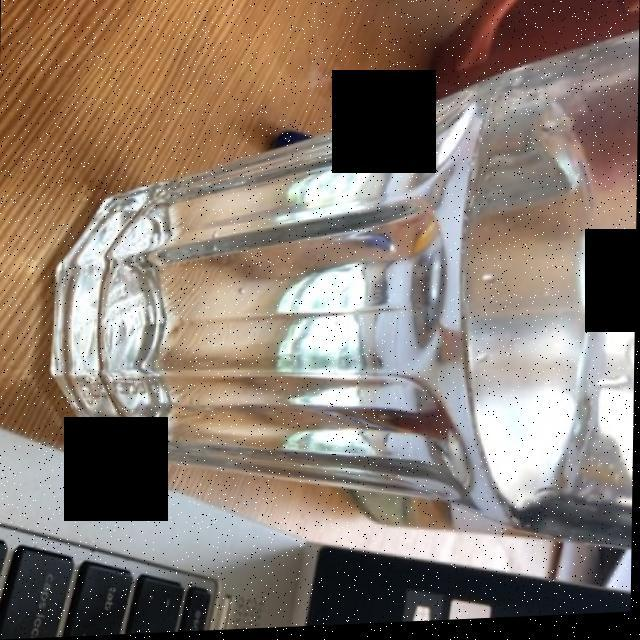water: (104, 85, 605, 520)
